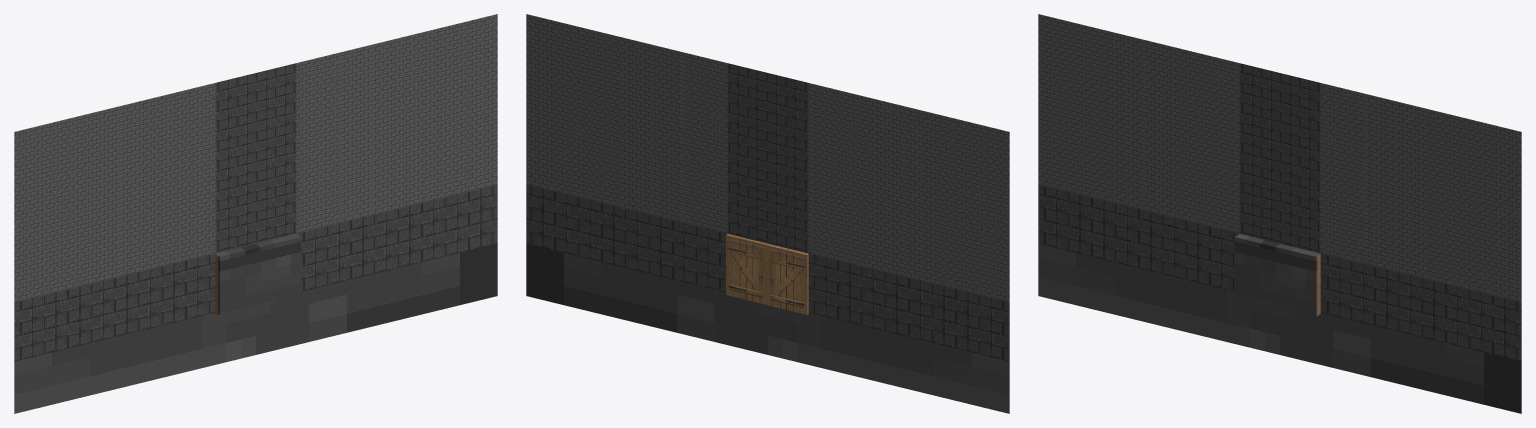
File: tuong_bonus.fbx
3 renders of one model, left to right at view 1: azimuth 30°, elevation 25°; view 2: azimuth 150°, elevation 25°; view 3: azimuth 330°, elevation 25°, orthographic.
Visible parts, largest first — view 1: Plane; view 2: Plane, Plane.001, Plane.002; view 3: Plane.
Boxes of the visible parts, x1,y1,x2,y2 form: Plane: (14, 14, 497, 413); Plane: (526, 14, 1009, 413); Plane.001: (766, 244, 808, 314); Plane.002: (726, 234, 767, 304); Plane: (1038, 14, 1521, 413).
Bounding box in the file's own units: 347 × 194 × 7.38.
